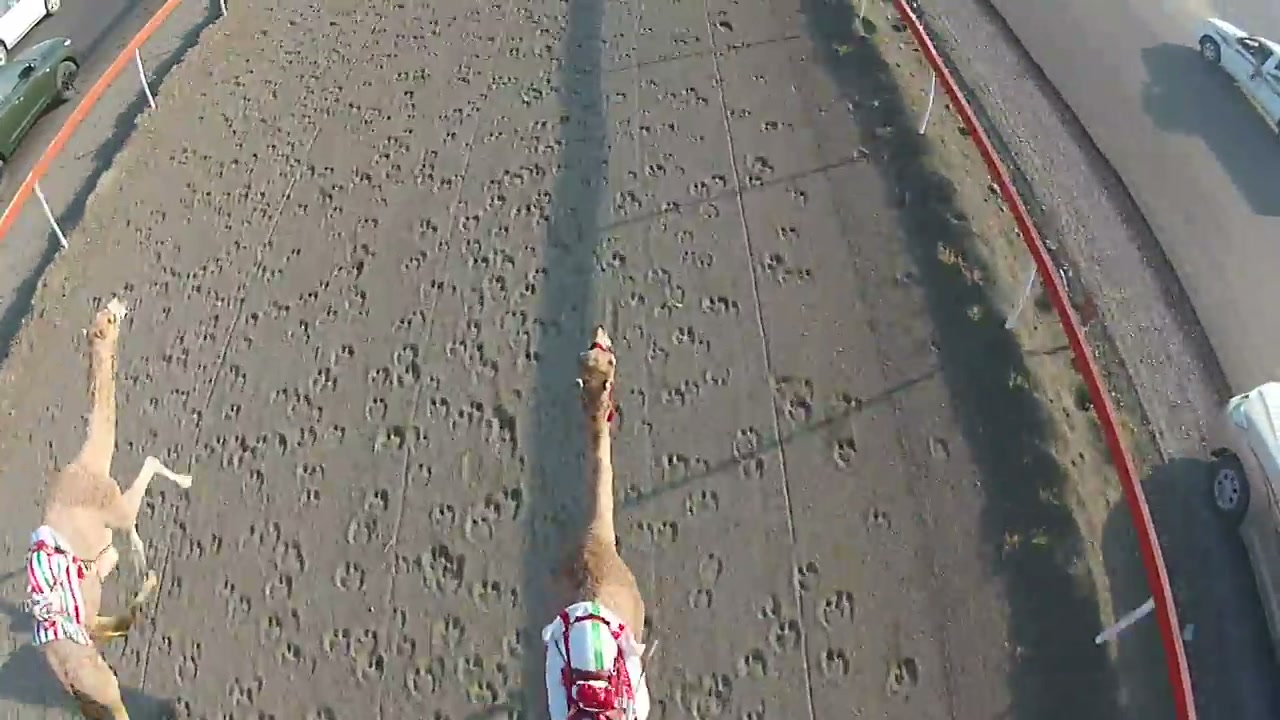animal_footprint: (118, 0, 862, 719), (322, 627, 387, 681), (462, 486, 523, 542), (674, 672, 733, 719), (412, 544, 466, 593), (773, 375, 814, 427), (403, 656, 447, 698), (732, 427, 766, 479), (759, 253, 812, 285), (659, 452, 710, 484), (470, 579, 519, 610), (218, 579, 253, 622), (295, 462, 325, 508), (885, 656, 919, 695), (819, 590, 854, 626), (431, 614, 465, 651), (174, 641, 202, 684), (769, 620, 802, 652), (636, 520, 679, 544), (333, 561, 365, 591), (732, 428, 762, 460), (818, 648, 850, 677), (831, 435, 857, 470), (737, 648, 768, 677), (699, 295, 741, 316), (698, 553, 724, 586), (686, 490, 719, 516), (794, 561, 819, 592), (757, 595, 782, 619), (866, 507, 891, 530), (688, 587, 714, 609), (928, 435, 950, 460), (305, 705, 339, 719)
